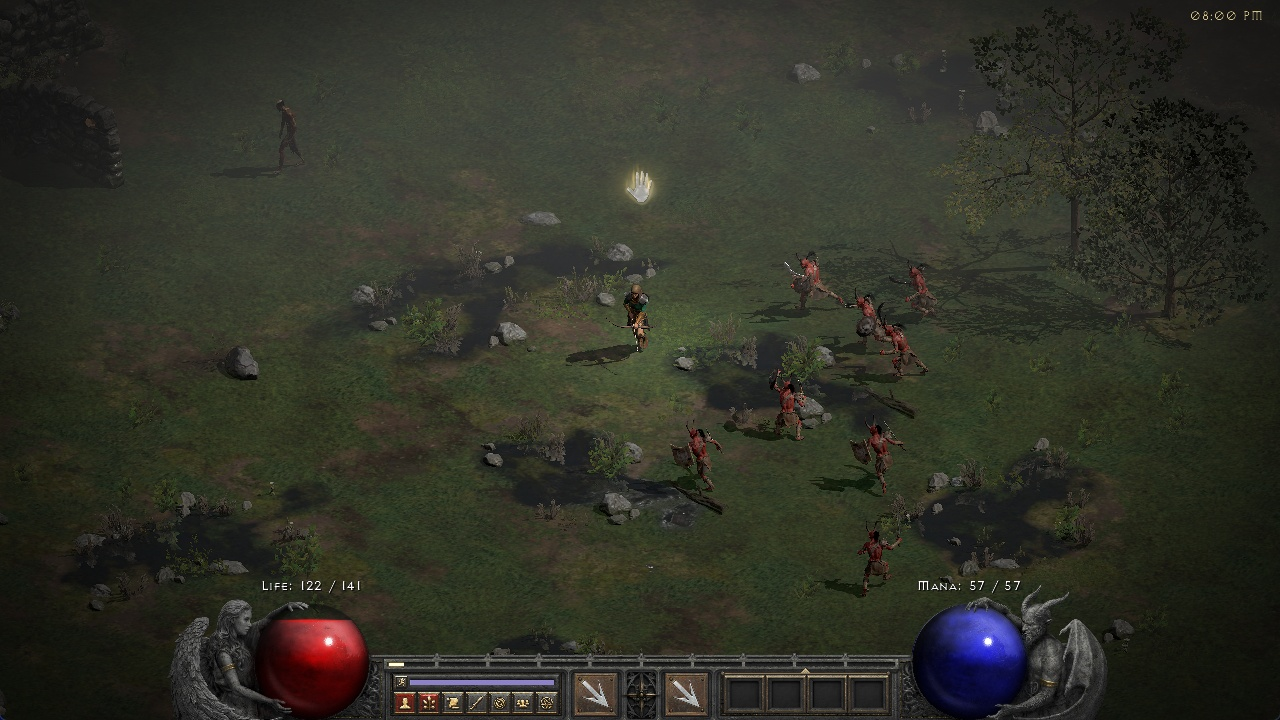fallen: (846, 413, 909, 496), (848, 518, 908, 598), (665, 419, 721, 492), (782, 251, 845, 314), (763, 365, 813, 443), (879, 316, 925, 378), (899, 262, 940, 312), (848, 288, 877, 340)
